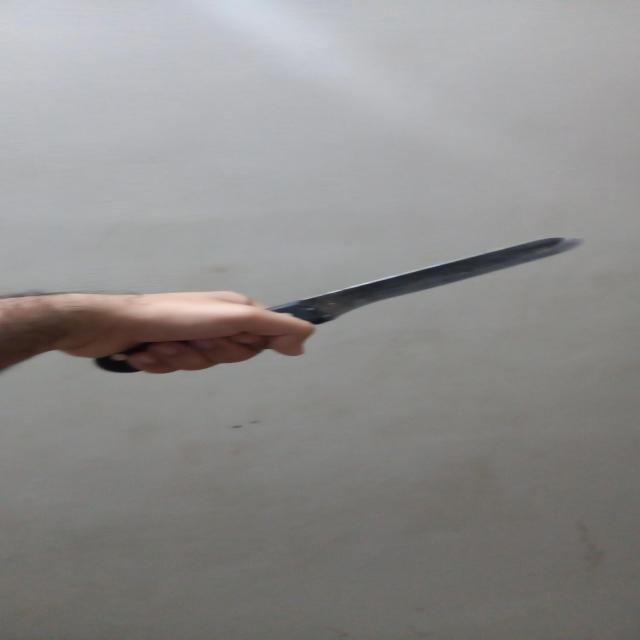Knife: (96, 236, 585, 373)
Person: (0, 290, 316, 373)
